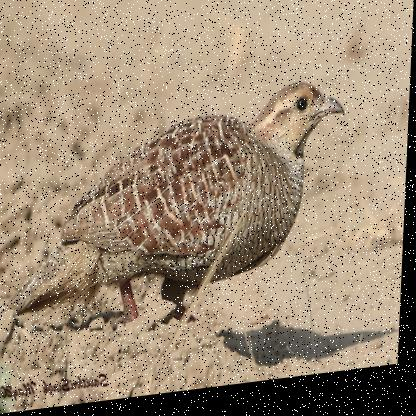Burung: (0, 85, 347, 340)
